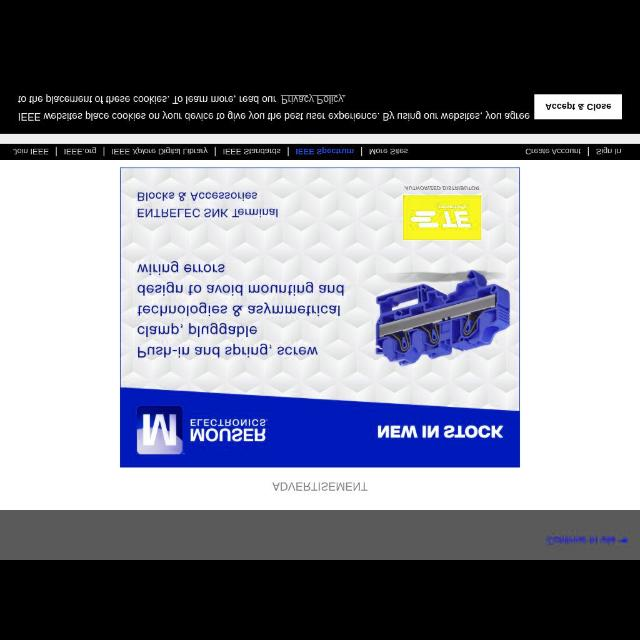icon: (618, 536, 628, 546)
image: (120, 168, 520, 466)
multitab: (1, 144, 639, 160)
text: (18, 94, 530, 122), (272, 481, 368, 491), (546, 534, 616, 546), (112, 146, 208, 154), (222, 146, 280, 156), (296, 146, 354, 156), (524, 146, 582, 156), (63, 146, 97, 156), (12, 148, 50, 156), (596, 145, 622, 155), (369, 148, 409, 154)
textbutton: (534, 95, 622, 119)
